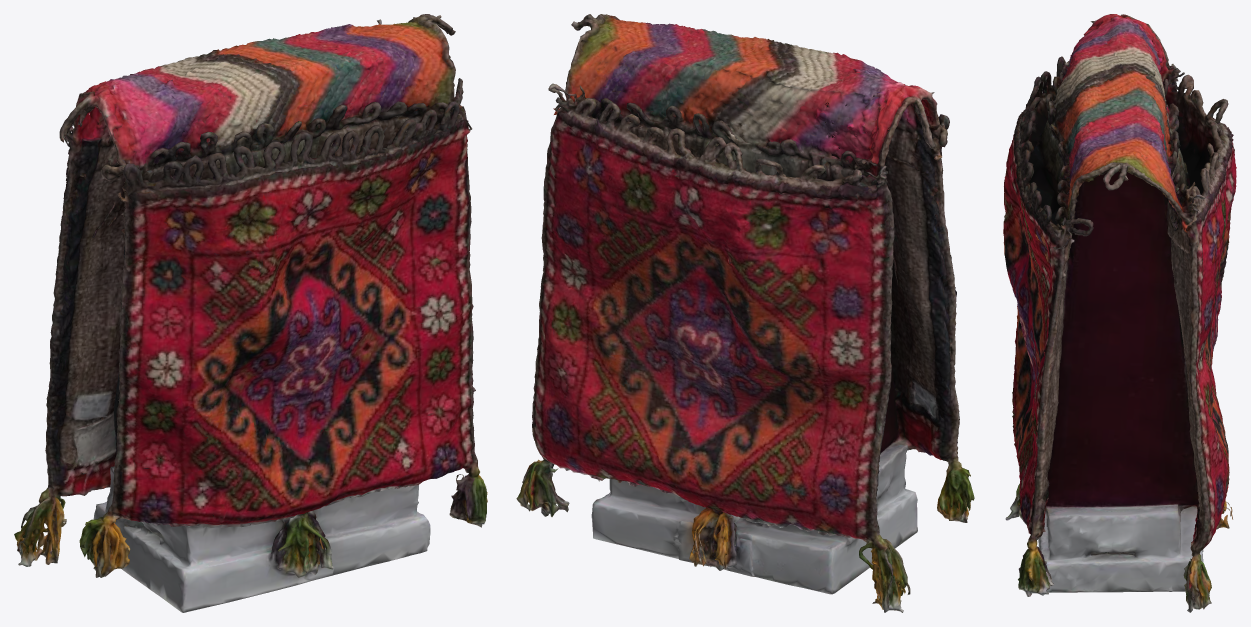
File: korzhyn.glb
The picture shows the model from 3 angles, left to right: view 1: azimuth 30°, elevation 25°; view 2: azimuth 150°, elevation 25°; view 3: azimuth 270°, elevation 25°; orthographic projection. The views are drawn at different scales.
Parts seen in each view (by area): view 1: LP_5907; view 2: LP_5907; view 3: LP_5907.
Part boxes in pixels (x1,y1,x2,y2): LP_5907: (14, 14, 487, 612); LP_5907: (516, 14, 974, 612); LP_5907: (1003, 14, 1236, 612).
Bounding box in the file's own units: 25.09 × 29.99 × 13.92.
1 material, 1 textured.
